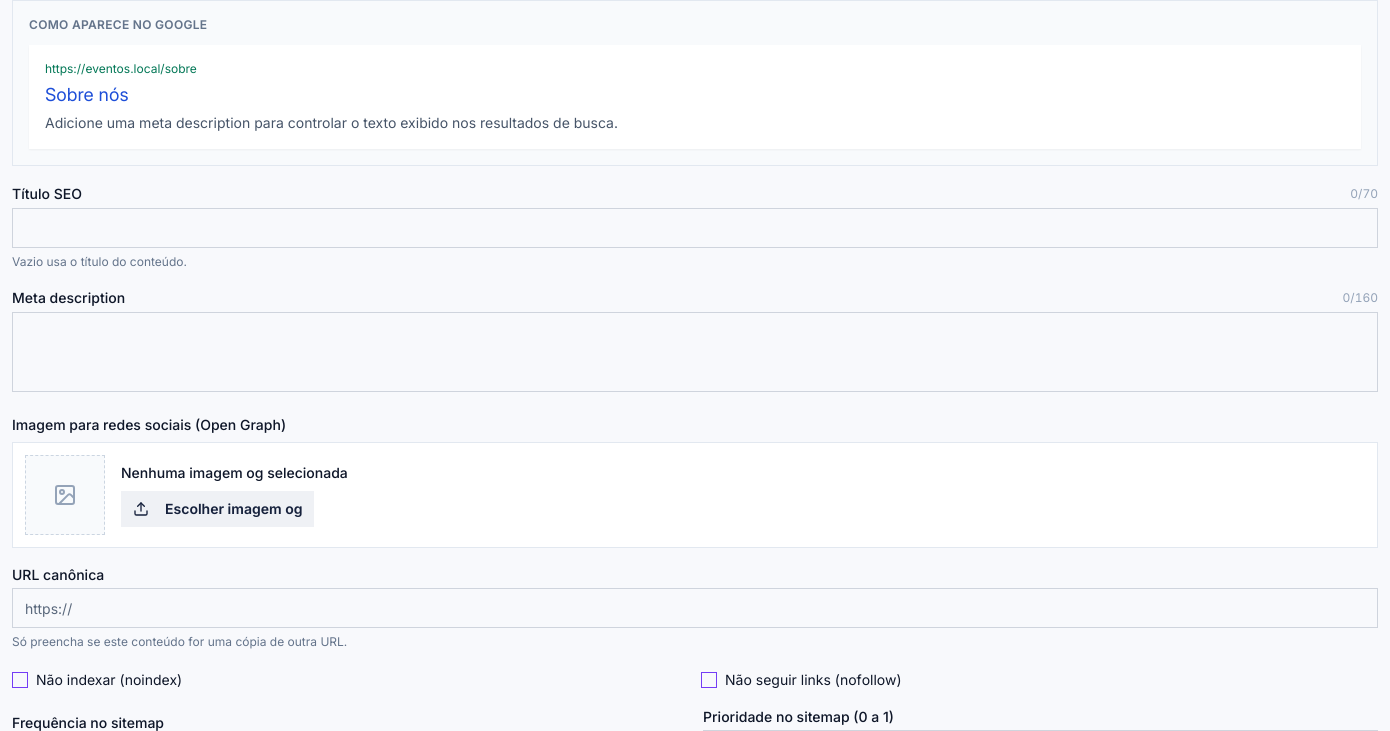
Test: SeoFields › previews the result the way a search engine would show it
The width and height of the screenshot is (1390, 731).
Expected: the text "Sobre nós" is shown, [45, 84, 128, 105]
Expected: the text "https://eventos.local/sobre" is shown, [45, 61, 197, 76]
Type "Quem somos" into the field labelled "Título SEO" at {"x": 695, "y": 228}, box [12, 208, 1378, 248]
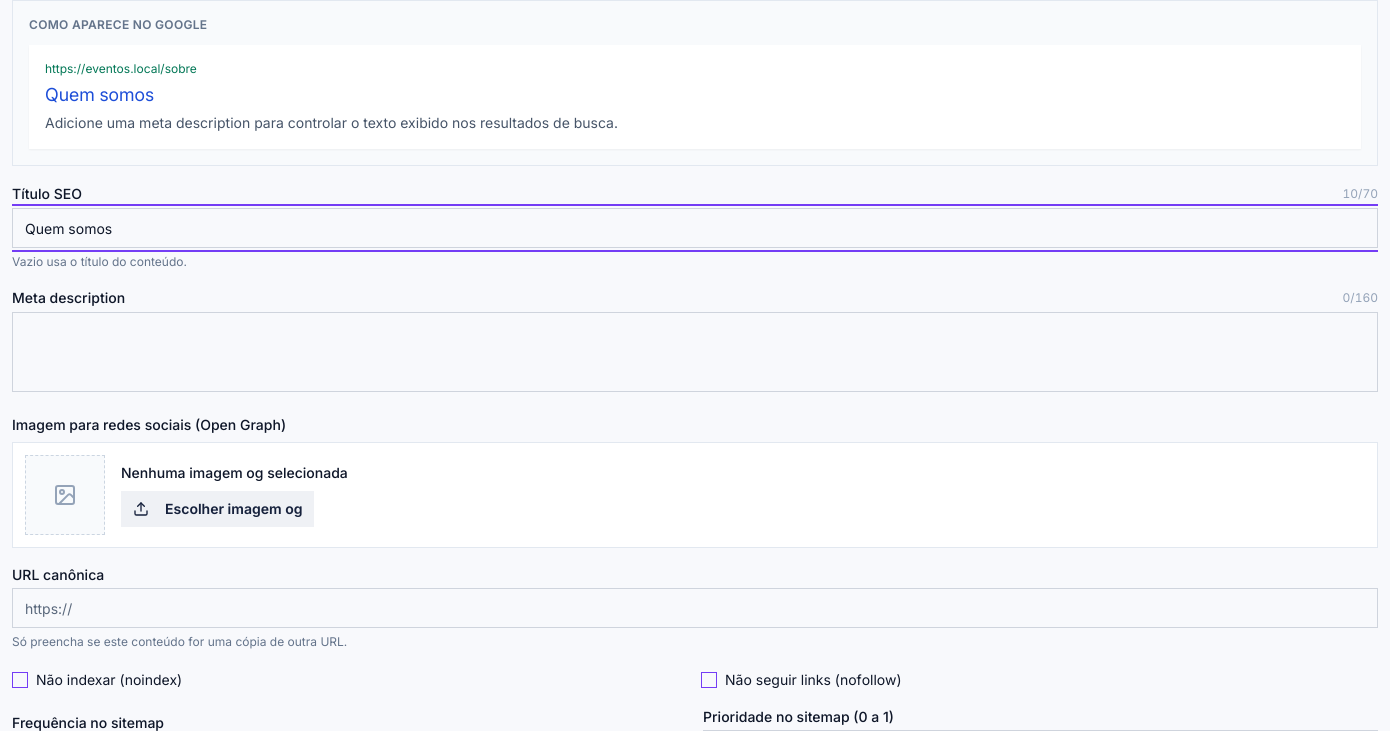
Type "Conheça a equipe." into the text box labelled "Meta description" at {"x": 695, "y": 352}, box [12, 312, 1378, 392]
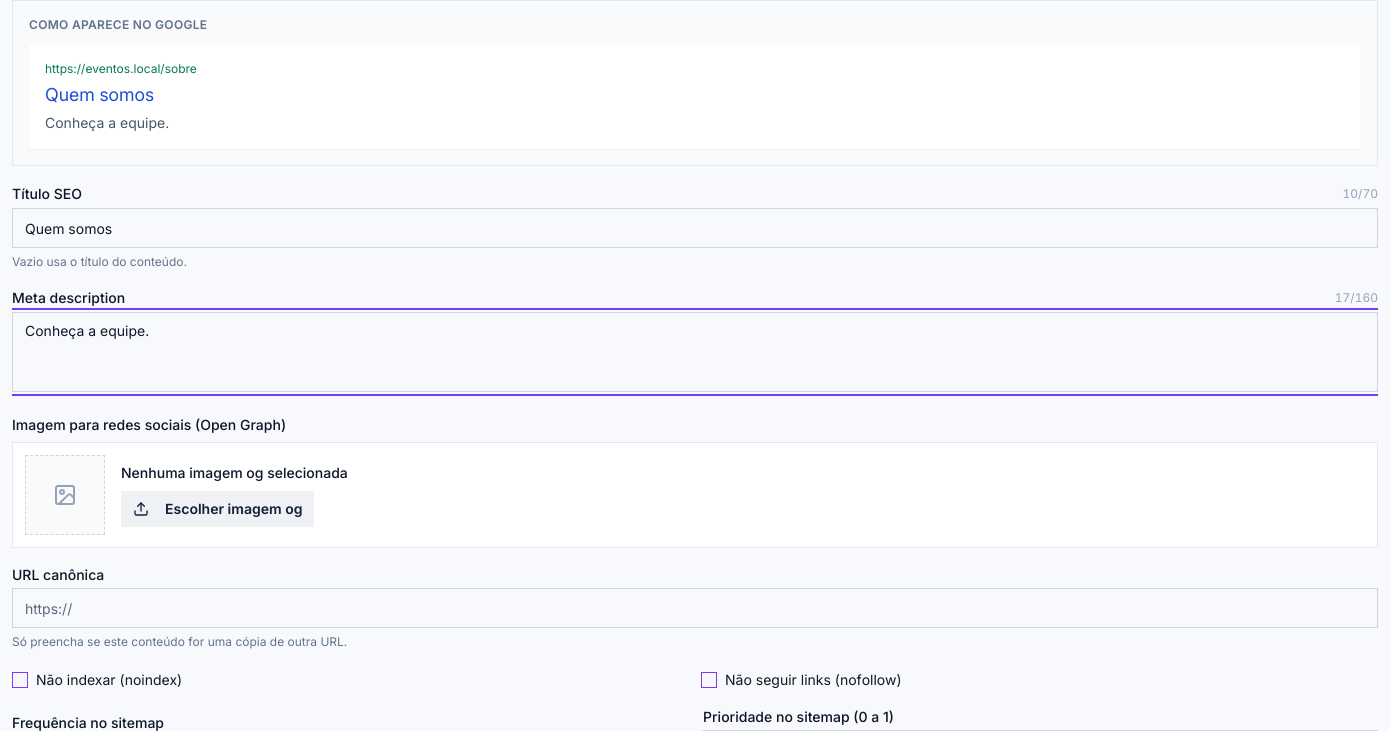
Result: the text "Quem somos" is shown at [45, 84, 154, 105]
Result: the text "Conheça a equipe." is shown at [45, 114, 169, 131]
